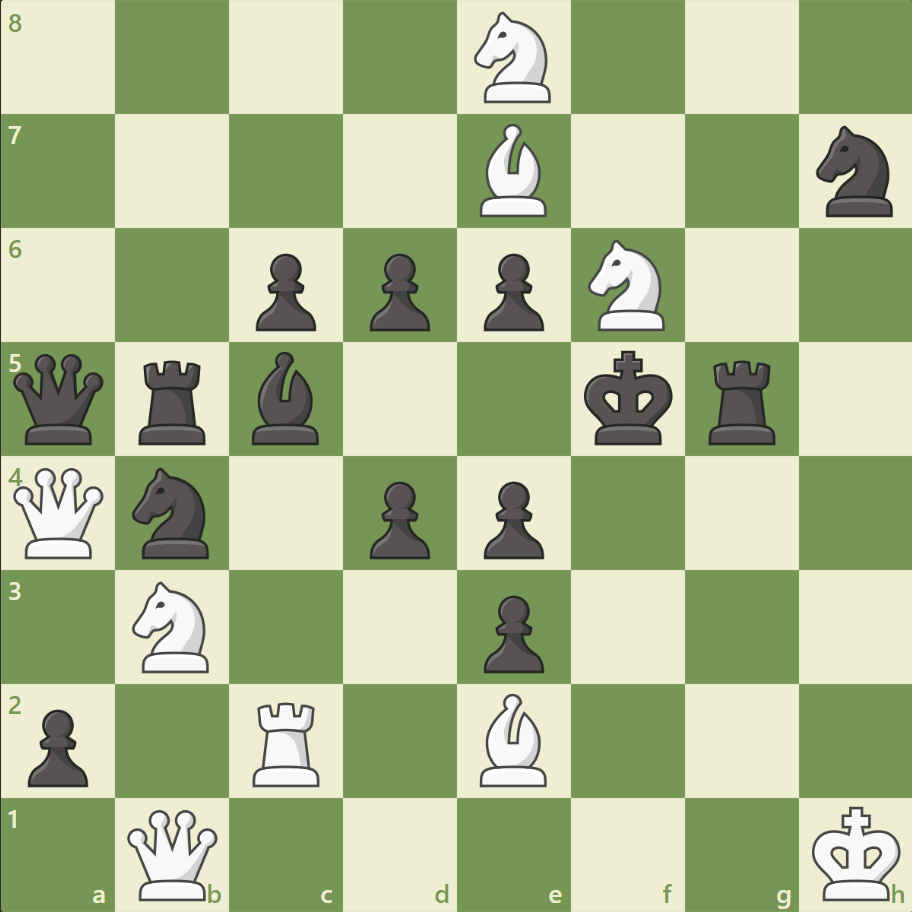B: (471, 687, 555, 790), (471, 120, 555, 222)
K: (806, 798, 906, 906)
N: (124, 575, 222, 677), (465, 7, 562, 110), (579, 234, 676, 337)
Q: (10, 463, 109, 562), (124, 804, 223, 903)
R: (246, 693, 329, 790)
b: (244, 347, 328, 449)
k: (579, 344, 679, 452)
n: (124, 461, 222, 564), (806, 121, 903, 223)
p: (247, 246, 322, 337), (474, 246, 549, 337), (474, 473, 549, 564), (474, 586, 549, 677), (20, 700, 95, 791), (361, 246, 435, 337), (361, 473, 435, 564)
q: (10, 349, 109, 449)
r: (700, 352, 783, 449), (133, 352, 215, 449)
